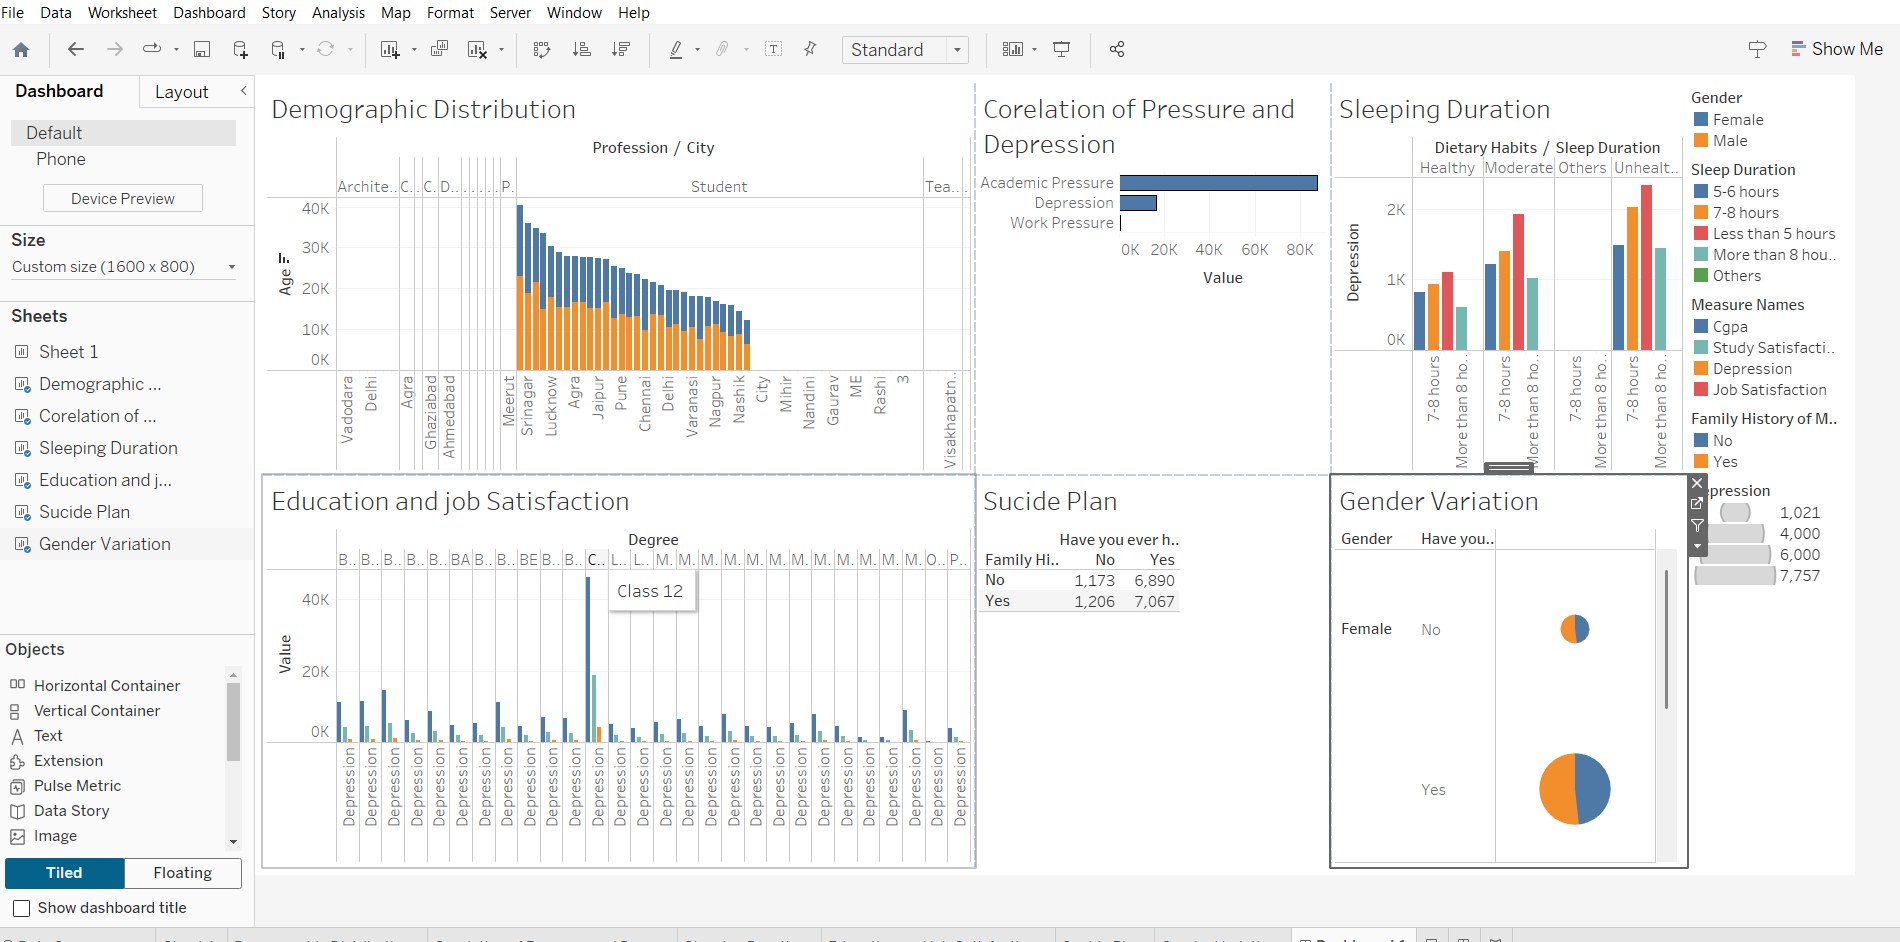

Layout of this report page (visuals, bound fields, positions):
{"tool":"tableau","page":{"name":"Dashboard 1","canvas":[1600,800],"ordinal":0},"visuals":[{"type":"worksheet","title":"Demographic Distribution","mark":"Automatic","rows":["Age"],"cols":["Profession","City"],"box":[8,8,712,392]},{"type":"worksheet","title":"Corelation of Pressure and Depression","mark":"Bar","box":[720,8,356,392]},{"type":"worksheet","title":"Sleeping Duration","mark":"Automatic","rows":["Depression"],"cols":["Dietary Habits","Sleep Duration"],"box":[1076,8,356,392]},{"type":"legend","title":"Demographic Distribution","param":"[federated.1cppm6h0rvby321conhqt03l85uk].[none:Gender:nk]","box":[1432,8,160,72]},{"type":"legend","title":"Sleeping Duration","param":"[federated.1cppm6h0rvby321conhqt03l85uk].[none:Sleep Duration:nk]","box":[1432,80,160,135]},{"type":"legend","title":"Education and job Satisfaction","param":"[federated.1cppm6h0rvby321conhqt03l85uk].[:Measure Names]","box":[1432,215,160,114]},{"type":"legend","title":"Gender Variation","param":"[federated.1cppm6h0rvby321conhqt03l85uk].[none:Family History of Mental Illness:","box":[1432,329,160,72]},{"type":"worksheet","title":"Education and job Satisfaction","mark":"Automatic","cols":["Degree"],"box":[8,400,712,392]},{"type":"worksheet","title":"Sucide Plan","mark":"Automatic","rows":["Family History of Mental Illness"],"cols":["Have you ever had suicidal thoughts ?"],"box":[720,400,356,392]},{"type":"worksheet","title":"Gender Variation","mark":"Pie","rows":["Gender","Have you ever had suicidal thoughts ?"],"box":[1076,400,356,392]},{"type":"legend","title":"Gender Variation","param":"[federated.1cppm6h0rvby321conhqt03l85uk].[sum:Depression:qk]","box":[1432,401,160,114]}]}

Visuals, with their boxes on the page's 1600x800 design canvas (x1, y1, x2, y2). These are canvas units, not pixel positions in the 1900x942 screenshot, which may show the page scaled, cropped or inside an application window:
"Demographic Distribution" worksheet: bbox=[8, 8, 720, 400]
"Corelation of Pressure and Depression" worksheet (Bar marks): bbox=[720, 8, 1076, 400]
"Sleeping Duration" worksheet: bbox=[1076, 8, 1432, 400]
"Demographic Distribution" legend: bbox=[1432, 8, 1592, 80]
"Sleeping Duration" legend: bbox=[1432, 80, 1592, 215]
"Education and job Satisfaction" legend: bbox=[1432, 215, 1592, 329]
"Gender Variation" legend: bbox=[1432, 329, 1592, 401]
"Education and job Satisfaction" worksheet: bbox=[8, 400, 720, 792]
"Sucide Plan" worksheet: bbox=[720, 400, 1076, 792]
"Gender Variation" worksheet (Pie marks): bbox=[1076, 400, 1432, 792]
"Gender Variation" legend: bbox=[1432, 401, 1592, 515]
